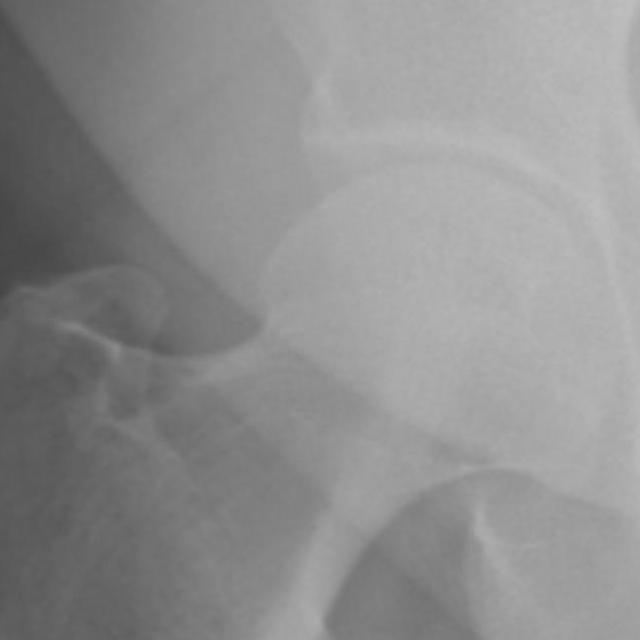Fitted_femural_head: (362, 165, 432, 362)
